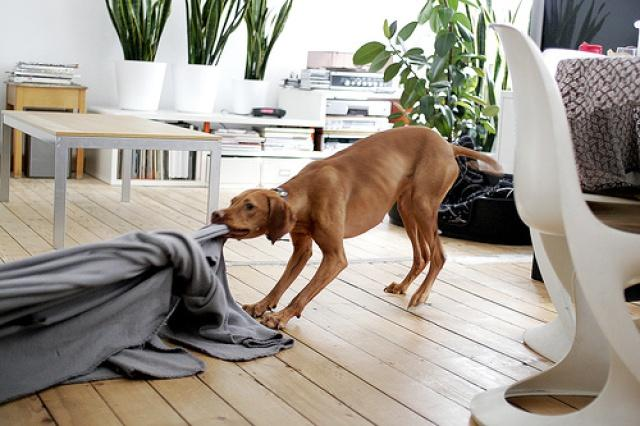Meja: (0, 108, 221, 244)
